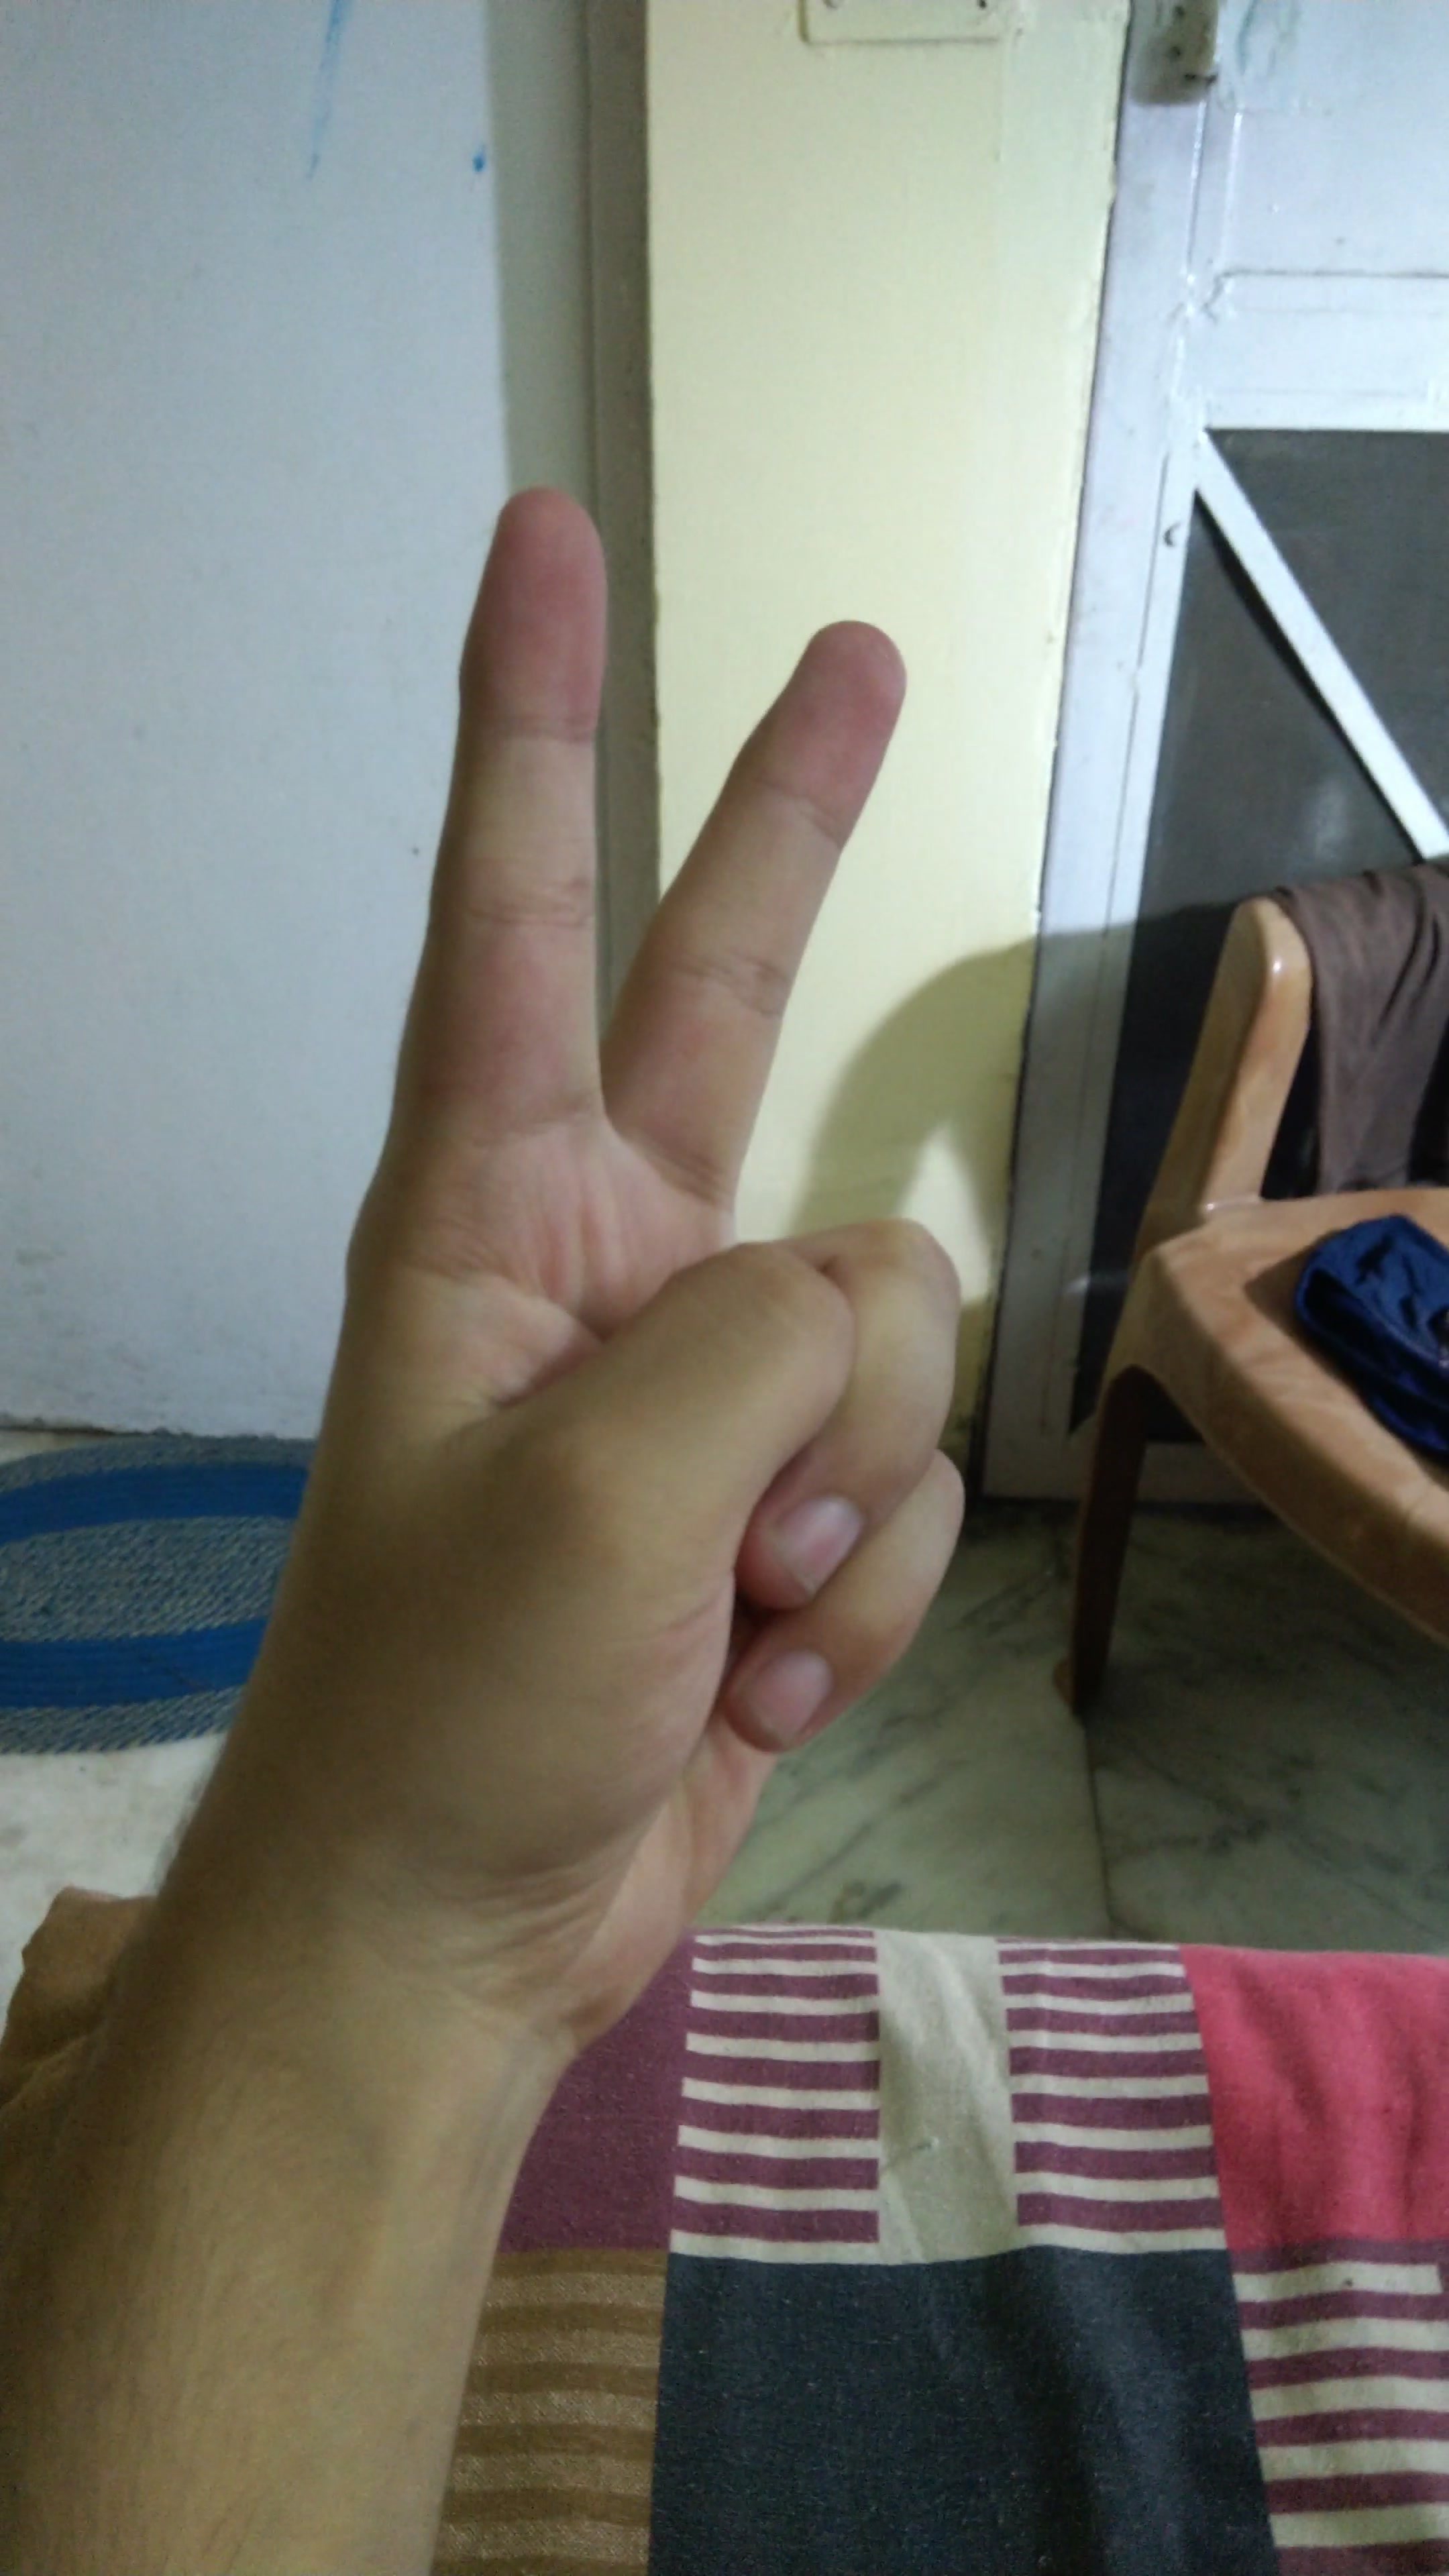hand: (189, 432, 1054, 1967)
